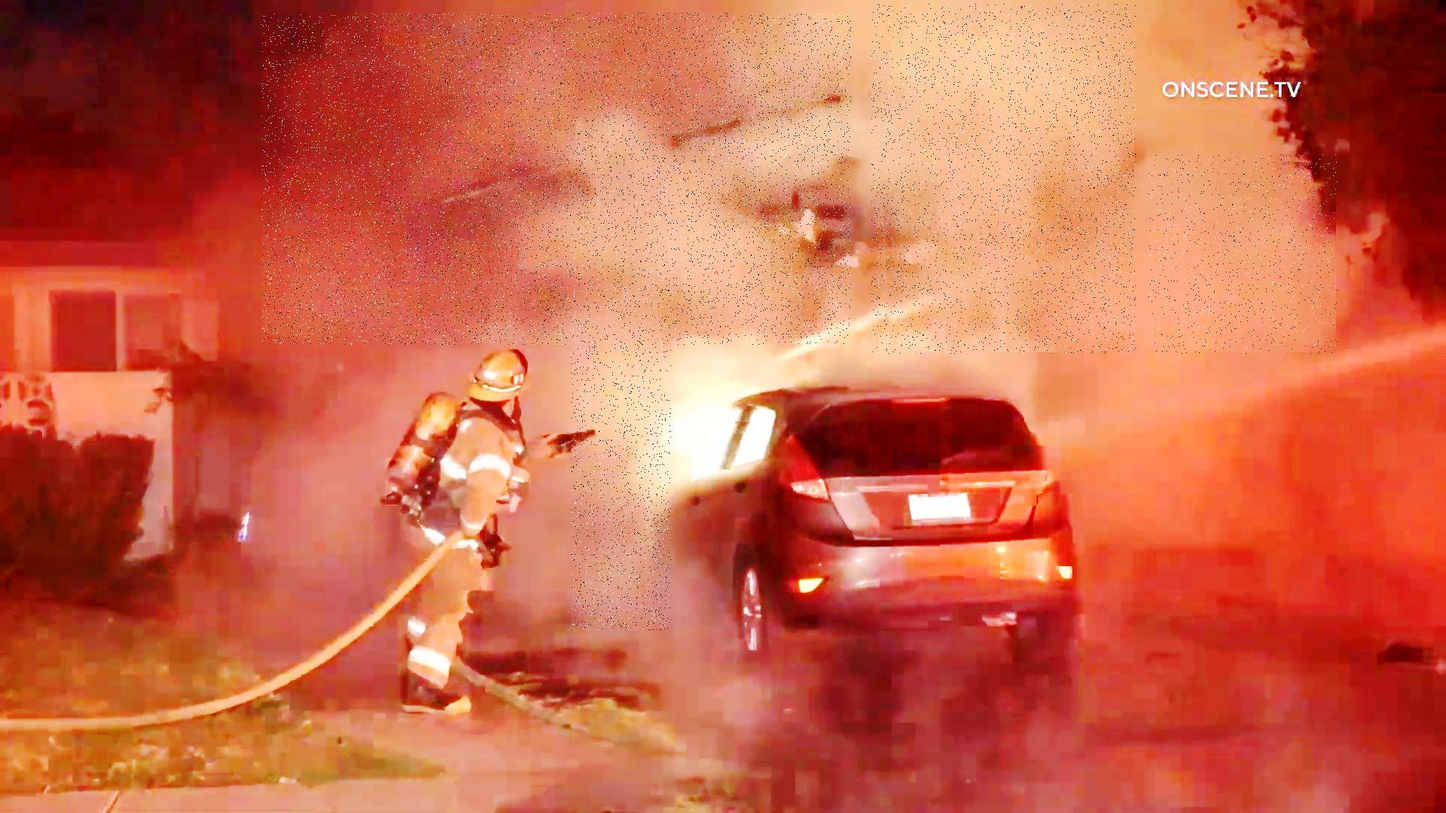smoke: (262, 13, 852, 345), (872, 4, 1136, 354), (1149, 155, 1338, 354), (571, 334, 671, 631)
